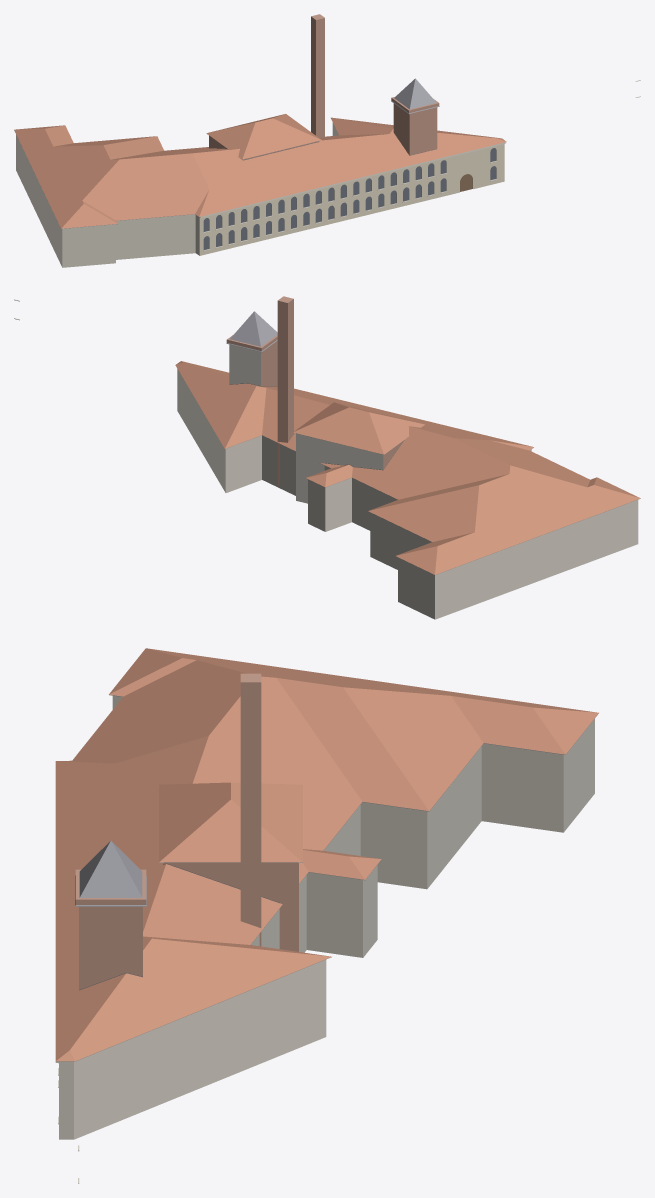
The picture shows the model from 3 angles, top to bottom: view 1: azimuth 30°, elevation 25°; view 2: azimuth 150°, elevation 25°; view 3: azimuth 270°, elevation 25°; orthographic projection. The views are drawn at different scales.
Visible parts, largest first — view 1: CP_1041_Roof, CP_1041_Masonry, CP_1041_WingRoof_vol_brewhouse, CP_1041_Vol_tower_Masonry, CP_1041_Chimney_0, CP_1041_WingRoof_vol_tower, CP_1041_Cornice_main_eave_0; view 2: CP_1041_Roof, CP_1041_Masonry, CP_1041_WingRoof_vol_brewhouse, CP_1041_Vol_brewhouse_Masonry, CP_1041_Chimney_0, CP_1041_Vol_tower_Masonry, CP_1041_WingRoof_vol_tower; view 3: CP_1041_Roof, CP_1041_Masonry, CP_1041_WingRoof_vol_brewhouse, CP_1041_Chimney_0, CP_1041_Vol_tower_Masonry, CP_1041_Vol_brewhouse_Masonry, CP_1041_WingRoof_vol_tower, CP_1041_Crenellation.
Boxes of the visible parts, <box> form: CP_1041_Roof: <box>14,117,506,228</box>; CP_1041_Masonry: <box>16,122,504,267</box>; CP_1041_WingRoof_vol_brewhouse: <box>206,114,321,159</box>; CP_1041_Vol_tower_Masonry: <box>393,103,437,155</box>; CP_1041_Chimney_0: <box>311,14,324,137</box>; CP_1041_WingRoof_vol_tower: <box>391,78,439,113</box>; CP_1041_Cornice_main_eave_0: <box>199,142,505,217</box>; CP_1041_Roof: <box>175,361,640,574</box>; CP_1041_Masonry: <box>177,369,638,619</box>; CP_1041_WingRoof_vol_brewhouse: <box>293,402,424,454</box>; CP_1041_Vol_brewhouse_Masonry: <box>296,433,403,503</box>; CP_1041_Chimney_0: <box>277,296,293,486</box>; CP_1041_Vol_tower_Masonry: <box>229,341,277,386</box>; CP_1041_WingRoof_vol_tower: <box>226,311,277,351</box>; CP_1041_Roof: <box>55,648,598,1061</box>; CP_1041_Masonry: <box>59,695,594,1139</box>; CP_1041_WingRoof_vol_brewhouse: <box>159,782,302,862</box>; CP_1041_Chimney_0: <box>240,673,261,946</box>; CP_1041_Vol_tower_Masonry: <box>79,906,142,989</box>; CP_1041_Vol_brewhouse_Masonry: <box>163,862,298,951</box>; CP_1041_WingRoof_vol_tower: <box>75,841,146,906</box>; CP_1041_Crenellation: <box>75,869,146,904</box>.
Bounding box in the file's own units: 162 × 45 × 67.91.
